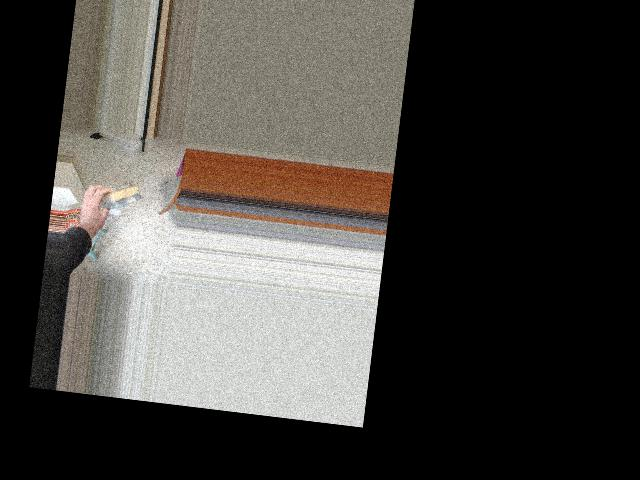cheese: (89, 176, 146, 218)
